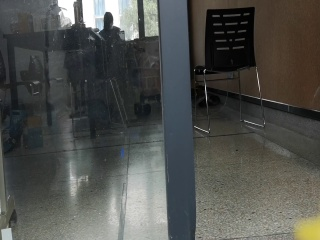room: (2, 2, 317, 232)
